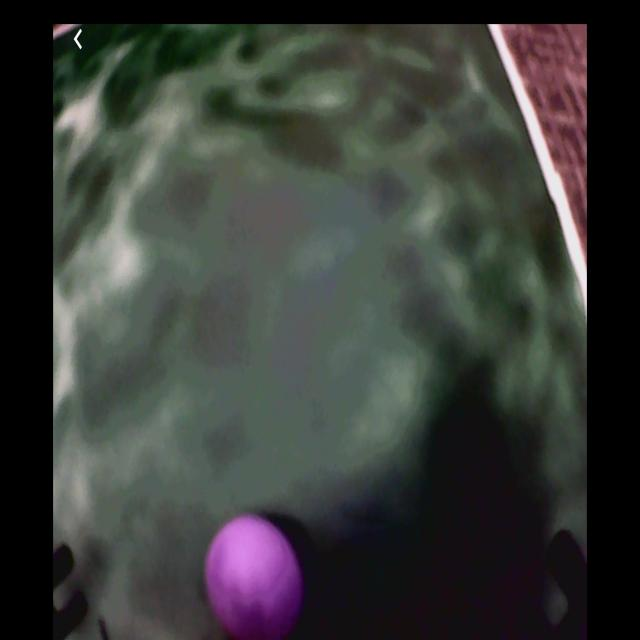ball: (207, 513, 306, 638)
